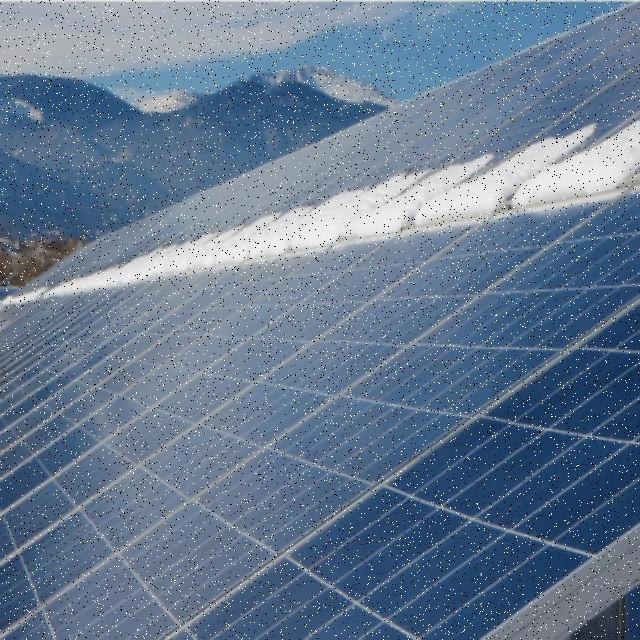snow covered: (1, 43, 639, 640)
